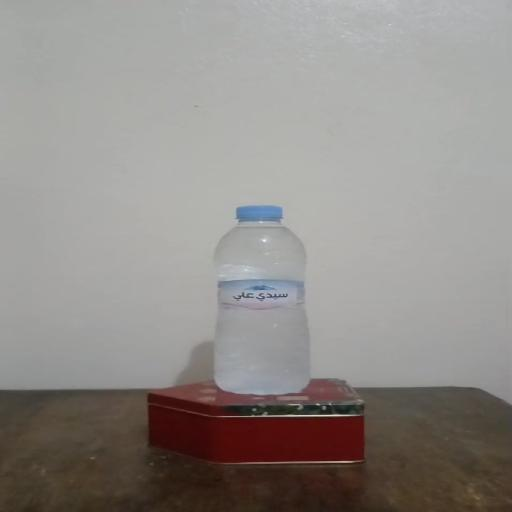bouteille conformite: (196, 186, 326, 399)
